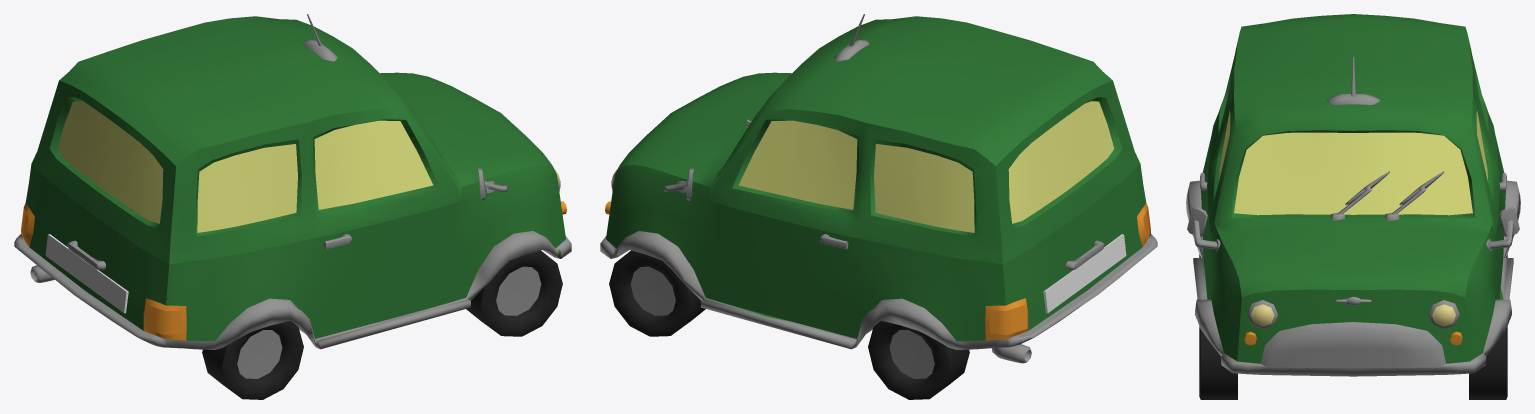
File: SM_Car_02.fbx
3 renders of one model, left to right at view 1: azimuth 30°, elevation 25°; view 2: azimuth 150°, elevation 25°; view 3: azimuth 270°, elevation 25°, orthographic. The views are drawn at different scales.
Parts seen in each view (by area): view 1: Voiture; view 2: Voiture; view 3: Voiture.
Boxes of the visible parts, left/top/right/bottom form: Voiture: left=14, top=14, right=571, bottom=399; Voiture: left=600, top=14, right=1157, bottom=399; Voiture: left=1186, top=14, right=1520, bottom=399.
Bounding box in the file's own units: 3.73 × 2.59 × 2.37.
